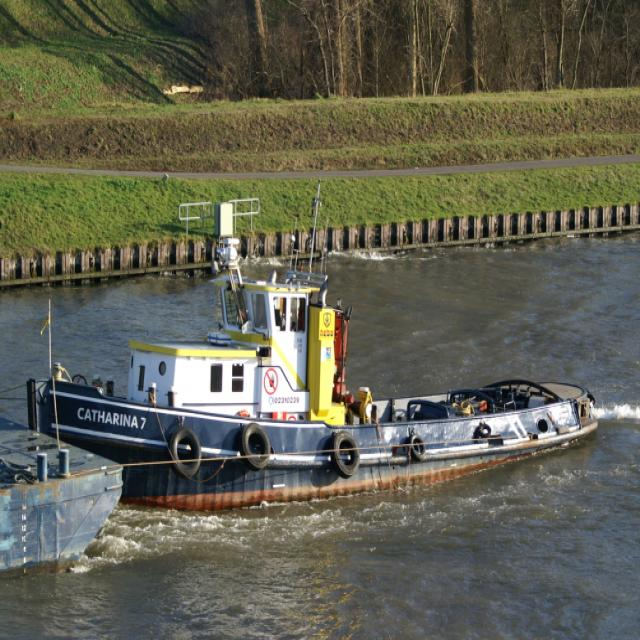tugboat: (25, 233, 604, 543)
